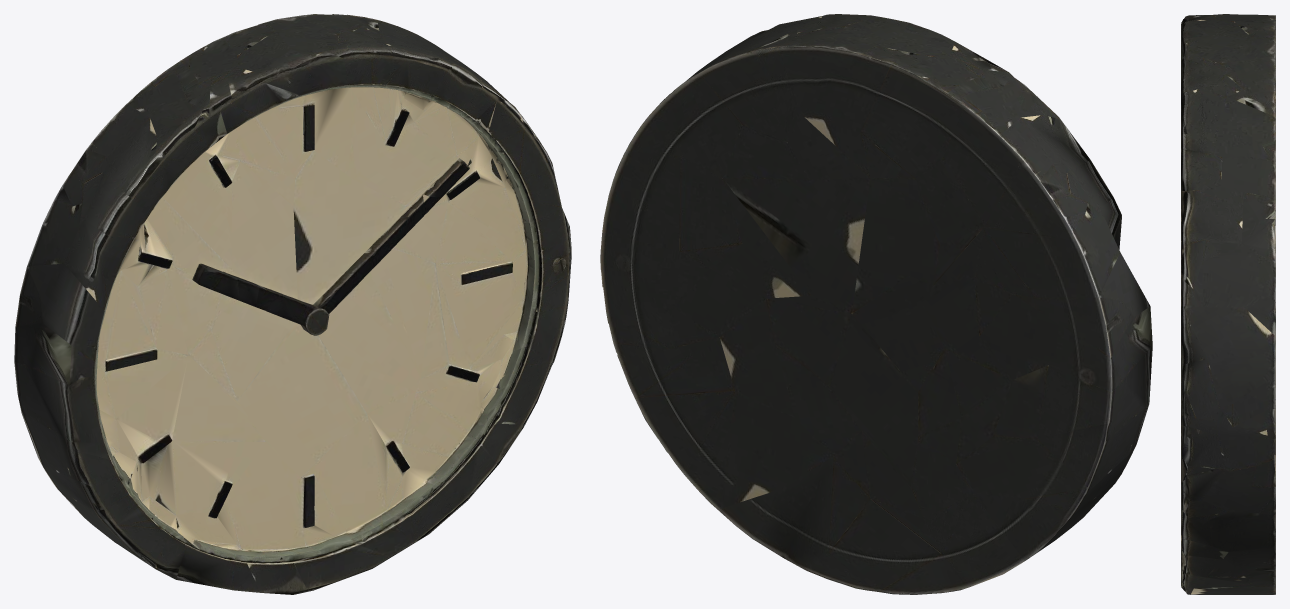
Rendered from wall_clock.glb.
3 renders of one model, left to right at view 1: azimuth 30°, elevation 25°; view 2: azimuth 150°, elevation 25°; view 3: azimuth 270°, elevation 25°, orthographic.
Visible parts, largest first — view 1: wall_clock; view 2: wall_clock; view 3: wall_clock.
Boxes of the visible parts, x1=… form: wall_clock: x1=14, y1=14, x2=571, y2=594; wall_clock: x1=600, y1=14, x2=1152, y2=594; wall_clock: x1=1181, y1=14, x2=1275, y2=594.
Size of the model in its own units: 0.4195 by 0.4197 by 0.0684.
1 material, 1 textured.
